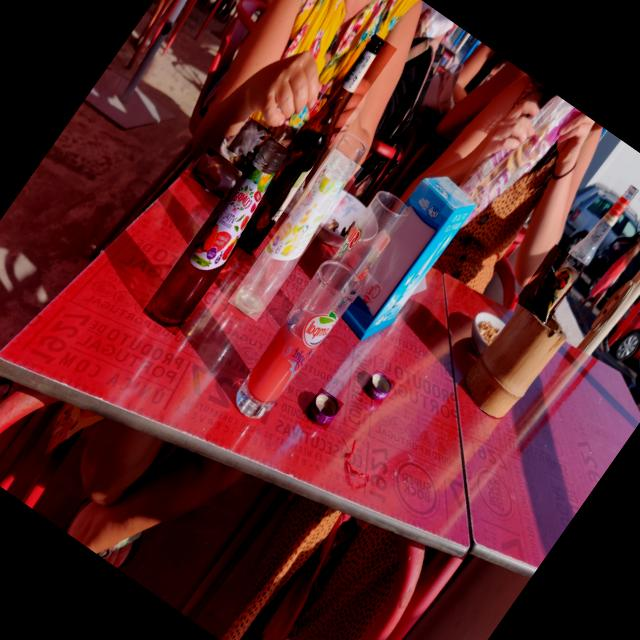Bottle cap: (308, 393, 336, 425), (365, 373, 390, 401)
Crisp packet: (531, 245, 560, 323)
Glass bottle: (235, 34, 383, 252), (148, 140, 288, 327), (235, 153, 353, 315), (550, 184, 637, 310)
Paper bag: (356, 205, 433, 317), (195, 154, 235, 194), (229, 118, 267, 157)
Plastic film: (458, 95, 581, 228)
